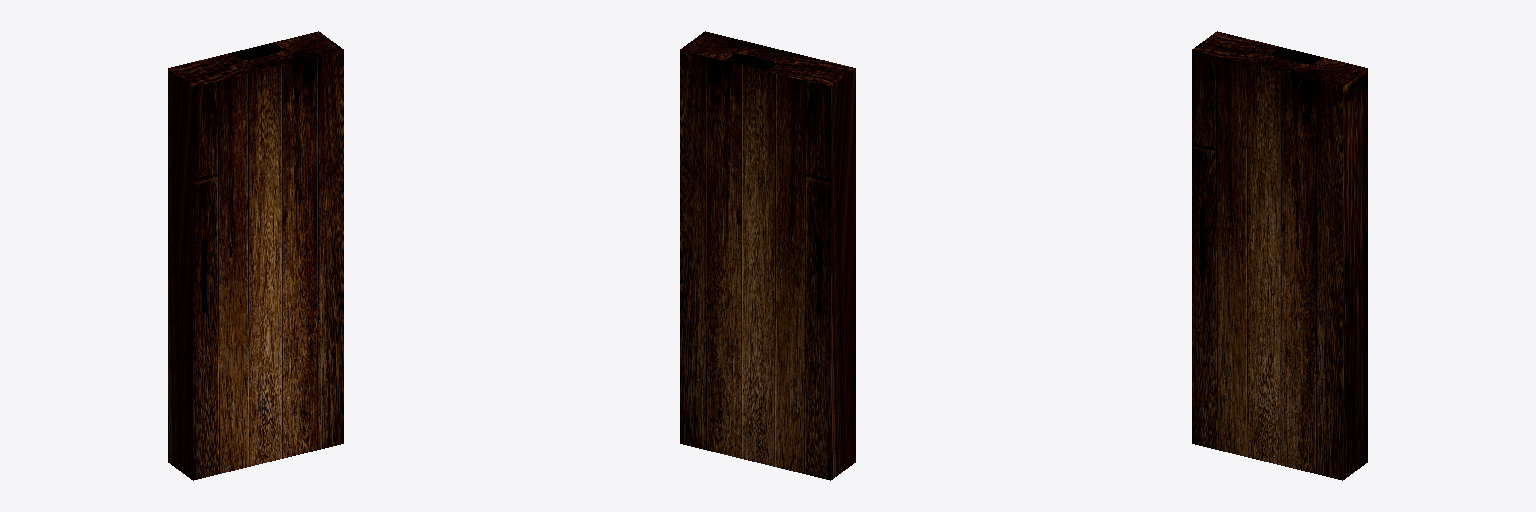
3 views of the same model, side by side, from view 1: azimuth 30°, elevation 25°; view 2: azimuth 150°, elevation 25°; view 3: azimuth 330°, elevation 25° (orthographic).
Parts seen in each view (by area): view 1: puertaPrincipal2:pCube64; view 2: puertaPrincipal2:pCube64; view 3: puertaPrincipal2:pCube64.
Boxes of the visible parts, x1=… form: puertaPrincipal2:pCube64: x1=168, y1=31, x2=343, y2=480; puertaPrincipal2:pCube64: x1=680, y1=31, x2=855, y2=480; puertaPrincipal2:pCube64: x1=1192, y1=31, x2=1367, y2=480.
Size of the model in its own units: 0.1715 by 0.426 by 0.05.
1 materials, 1 textured.